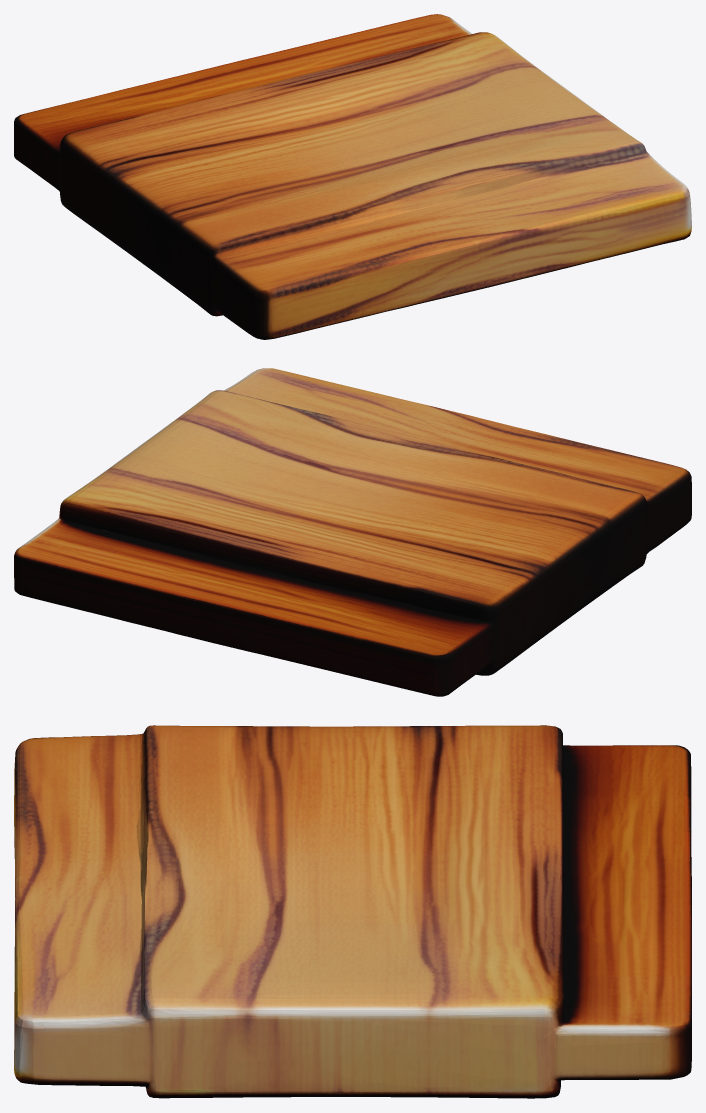
The model's file is wooden-tie-clip-3d.jpeg.glb.
3 views of the same model, one above another, from view 1: azimuth 30°, elevation 25°; view 2: azimuth 150°, elevation 25°; view 3: azimuth 270°, elevation 25° (orthographic). The views are drawn at different scales.
Parts seen in each view (by area): view 1: world; view 2: world; view 3: world.
Boxes of the visible parts, left/top/right/bottom form: world: left=14, top=14, right=691, bottom=339; world: left=14, top=368, right=691, bottom=696; world: left=14, top=725, right=691, bottom=1098.
Bounding box in the file's own units: 0.9993 × 0.1654 × 1.
Materials: 1 (1 with a texture image).
